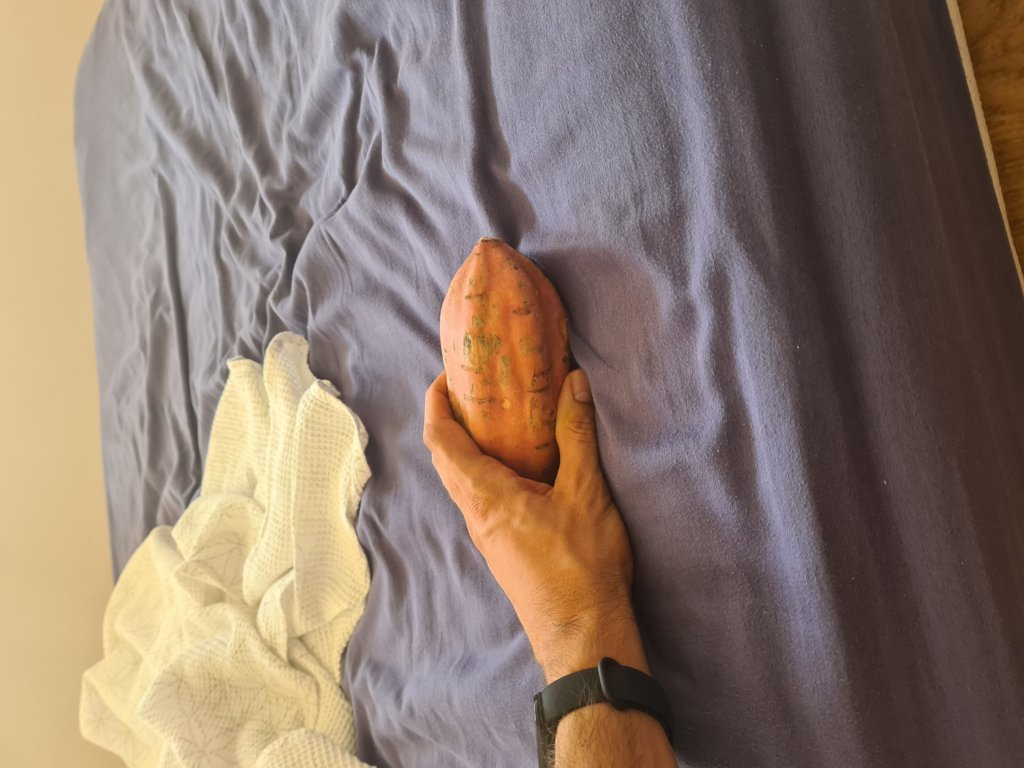Sweet Potatow: (434, 238, 566, 472)
